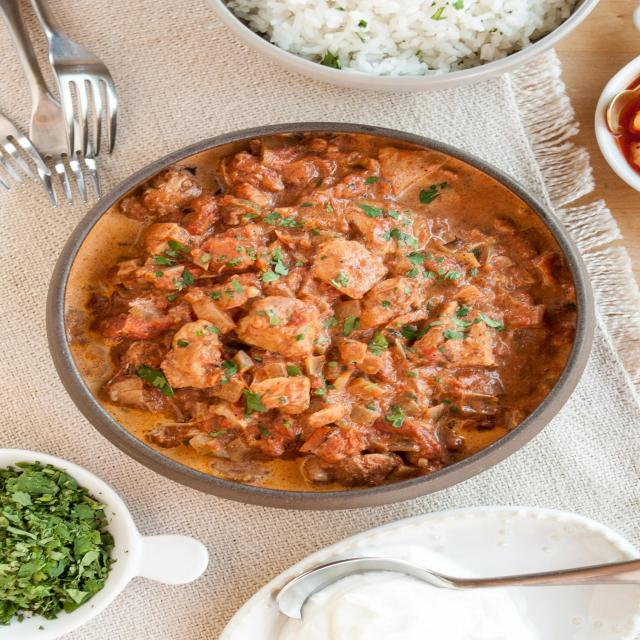chicken: (54, 155, 609, 501)
